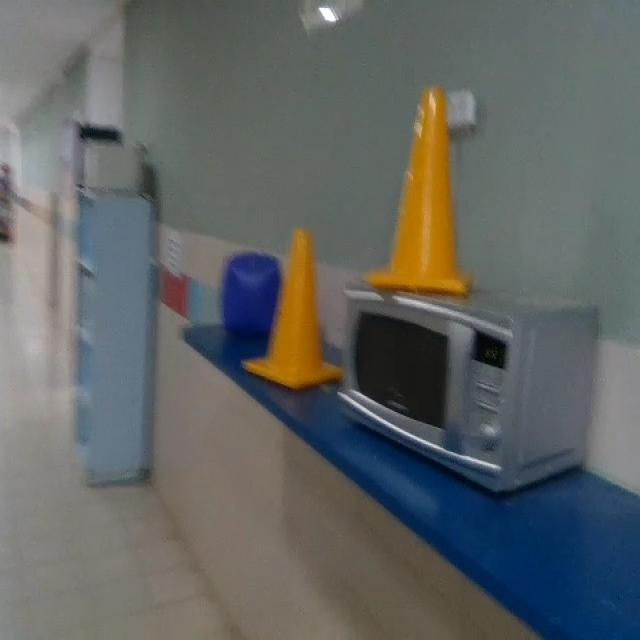cone: (368, 87, 472, 296), (242, 228, 343, 392)
cube: (222, 252, 282, 348)
